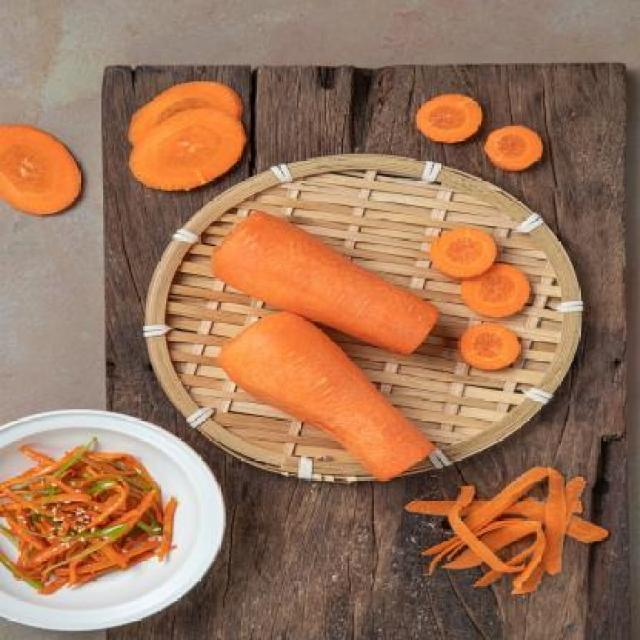carrot: (211, 307, 452, 484), (203, 201, 452, 365)
